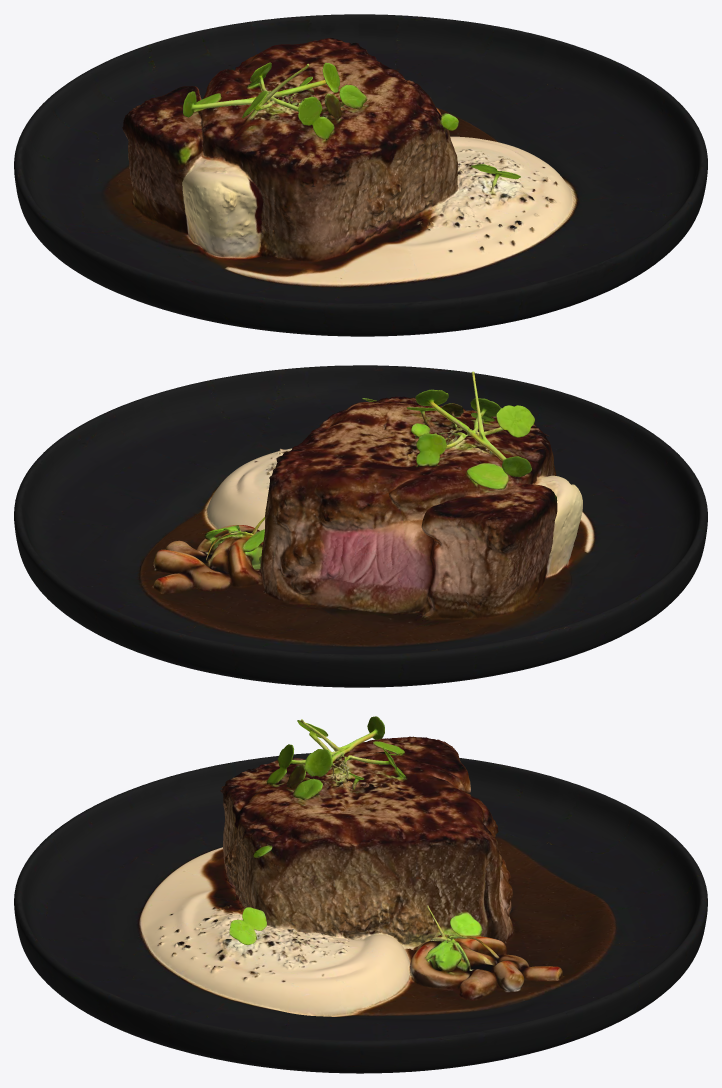
File: pave-boeuf-meshy.glb
3 renders of one model, top to bottom at view 1: azimuth 30°, elevation 25°; view 2: azimuth 150°, elevation 25°; view 3: azimuth 270°, elevation 25°, orthographic.
Bounding box in the file's own units: 1.9 × 0.6476 × 1.9.
1 material, 1 textured.
